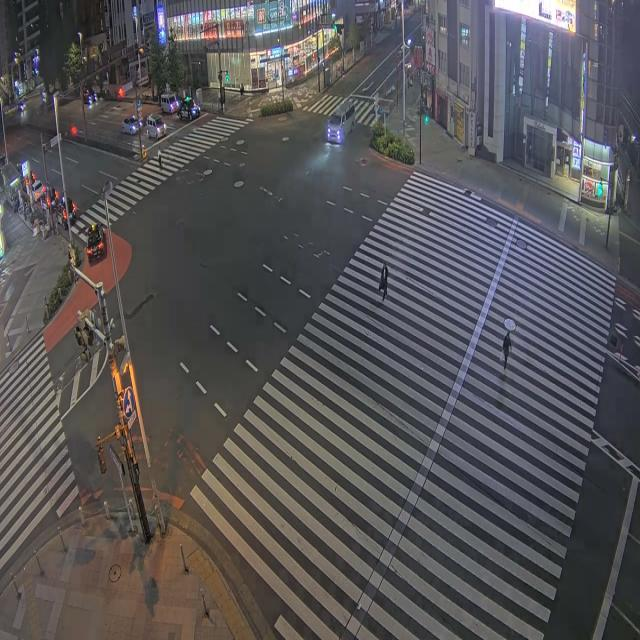car: (86, 224, 105, 262), (178, 96, 200, 119), (56, 198, 68, 229), (122, 117, 140, 135), (33, 181, 46, 201), (83, 88, 96, 105), (18, 101, 25, 111)
van: (327, 101, 354, 143), (146, 114, 166, 139), (160, 94, 178, 113)
